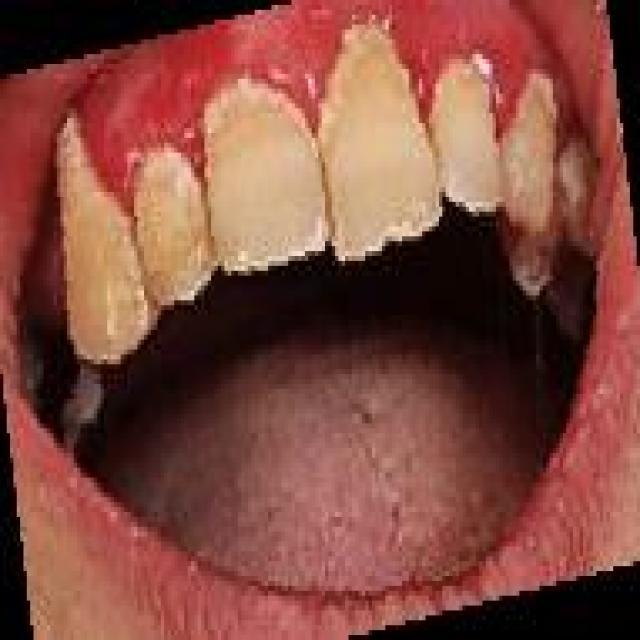caries: (15, 317, 95, 445)
